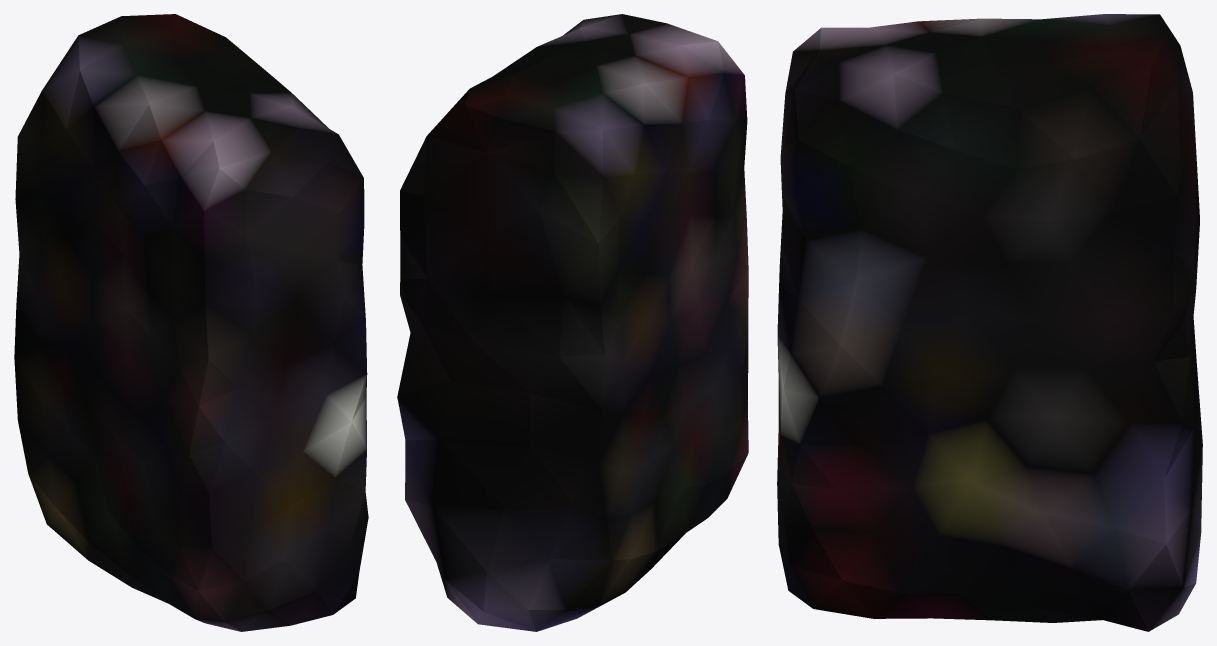
File: power-box.dae
The picture shows the model from 3 angles, left to right: view 1: azimuth 30°, elevation 25°; view 2: azimuth 150°, elevation 25°; view 3: azimuth 270°, elevation 25°; orthographic projection. The views are drawn at different scales.
Visible parts, largest first — view 1: node; view 2: node; view 3: node.
Boxes of the visible parts, left/top/right/bottom form: node: left=14, top=14, right=368, bottom=631; node: left=397, top=14, right=748, bottom=631; node: left=777, top=14, right=1202, bottom=631.
Size of the model in its own units: 0.1198 by 0.2838 by 0.1929.
